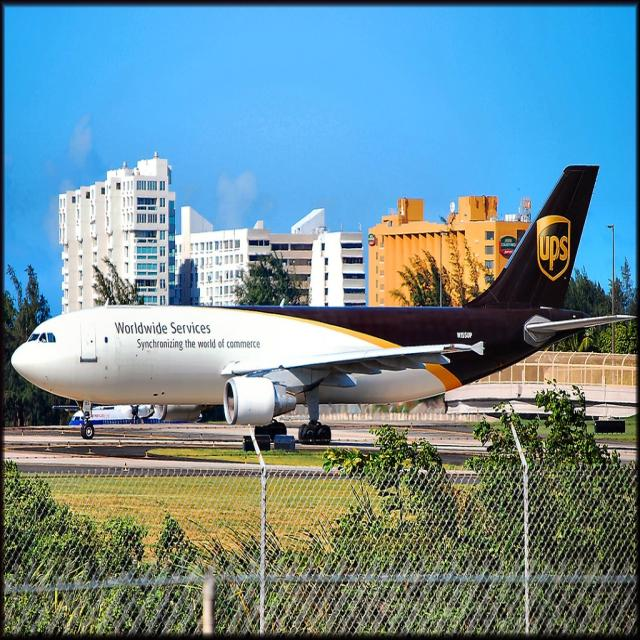ups: (538, 215, 572, 282)
